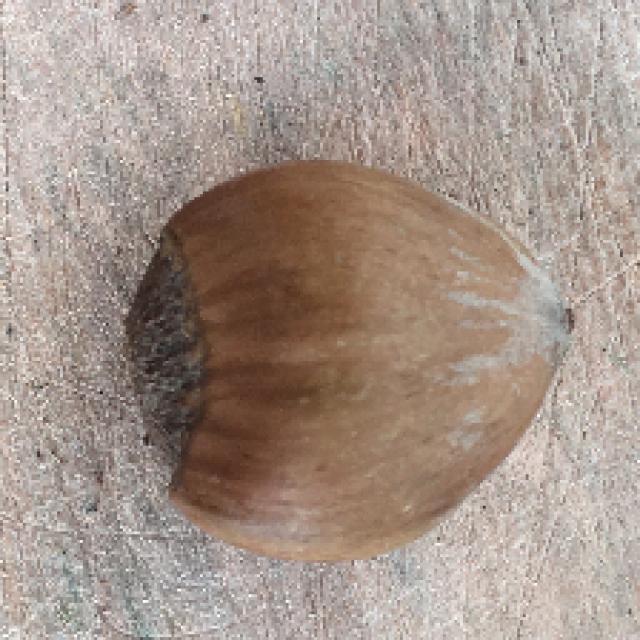damagedHazelnut: (115, 157, 582, 568)
